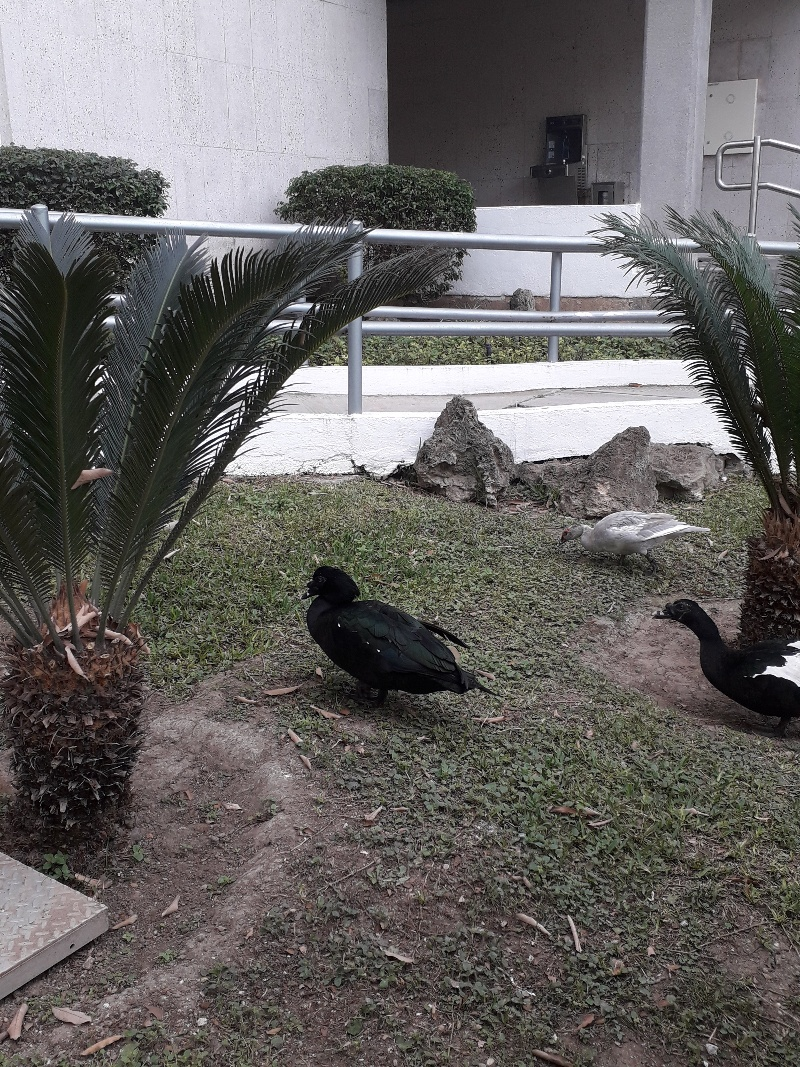pato: (304, 566, 461, 707), (657, 586, 800, 720)
